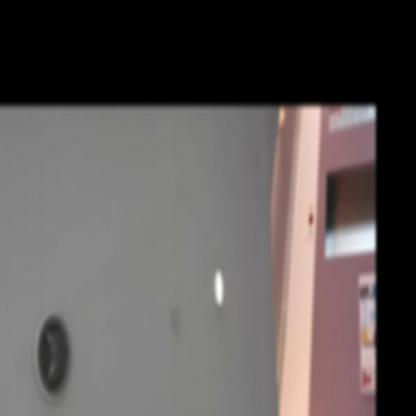light_off: (17, 282, 84, 415)
